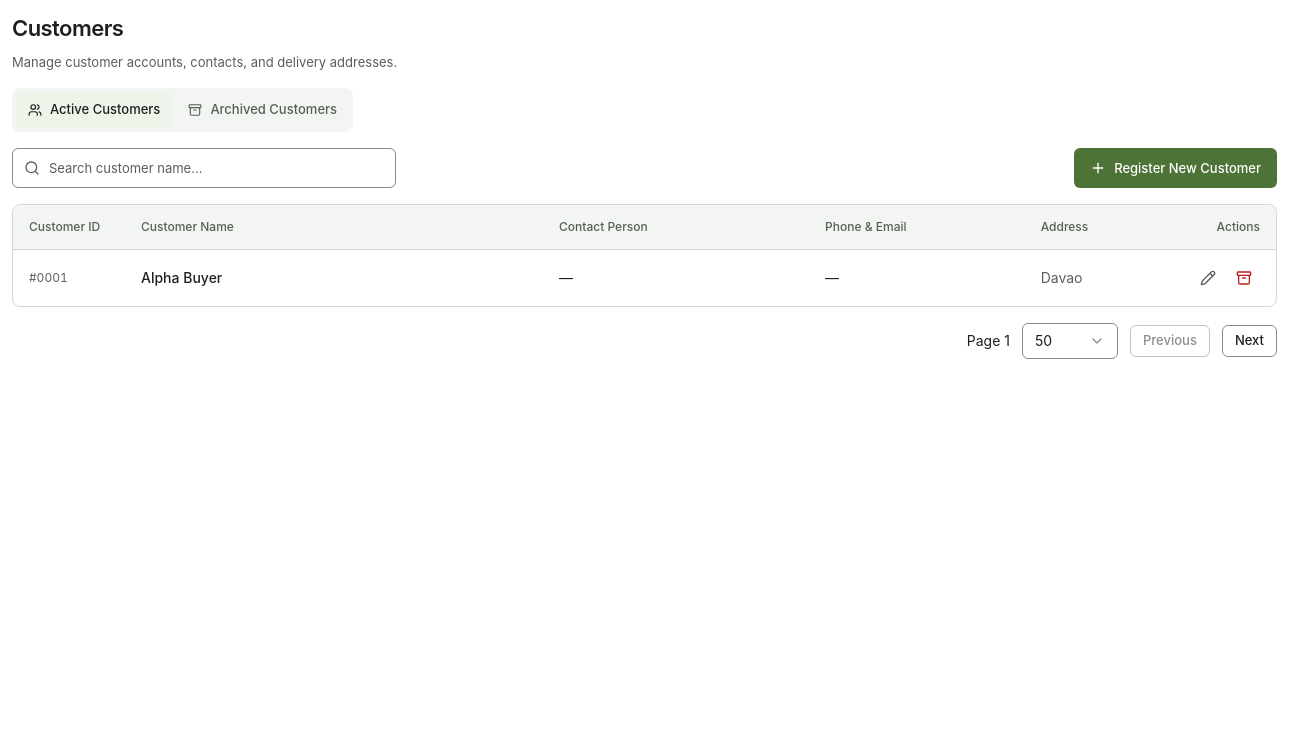
Test: resets page size without sending a previous cursor
The image size is (1292, 732).
Expected: the text "Alpha Buyer" is shown, [141,269,222,286]
What coordinates should you click on to do the following:
click the button "Next"
I would click on:
 (1249, 340)
Its box is [1222,324,1277,356].
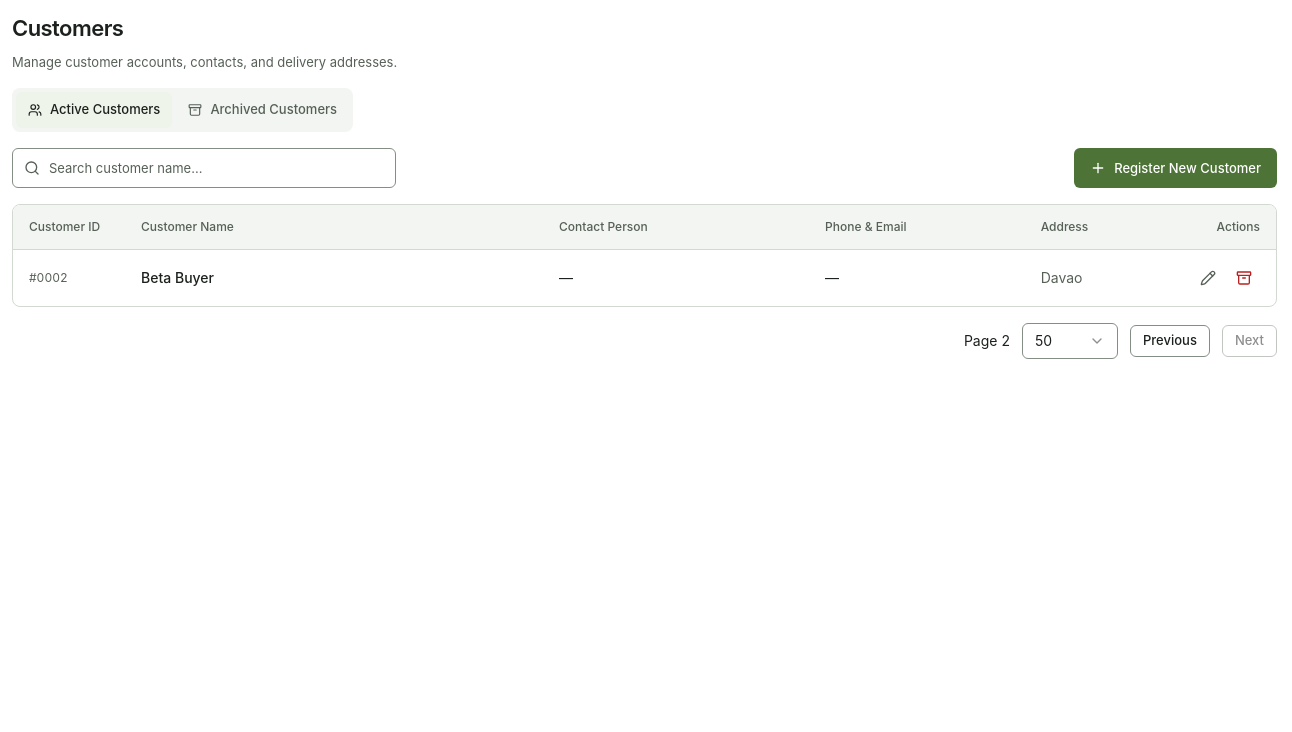
Now the text "Beta Buyer" is shown, box [141,269,214,286]
What coordinates should you click on to do the following:
click the dropdown named "Customers per page"
I would click on:
 (1070, 340)
Its box is [1022,322,1118,358].
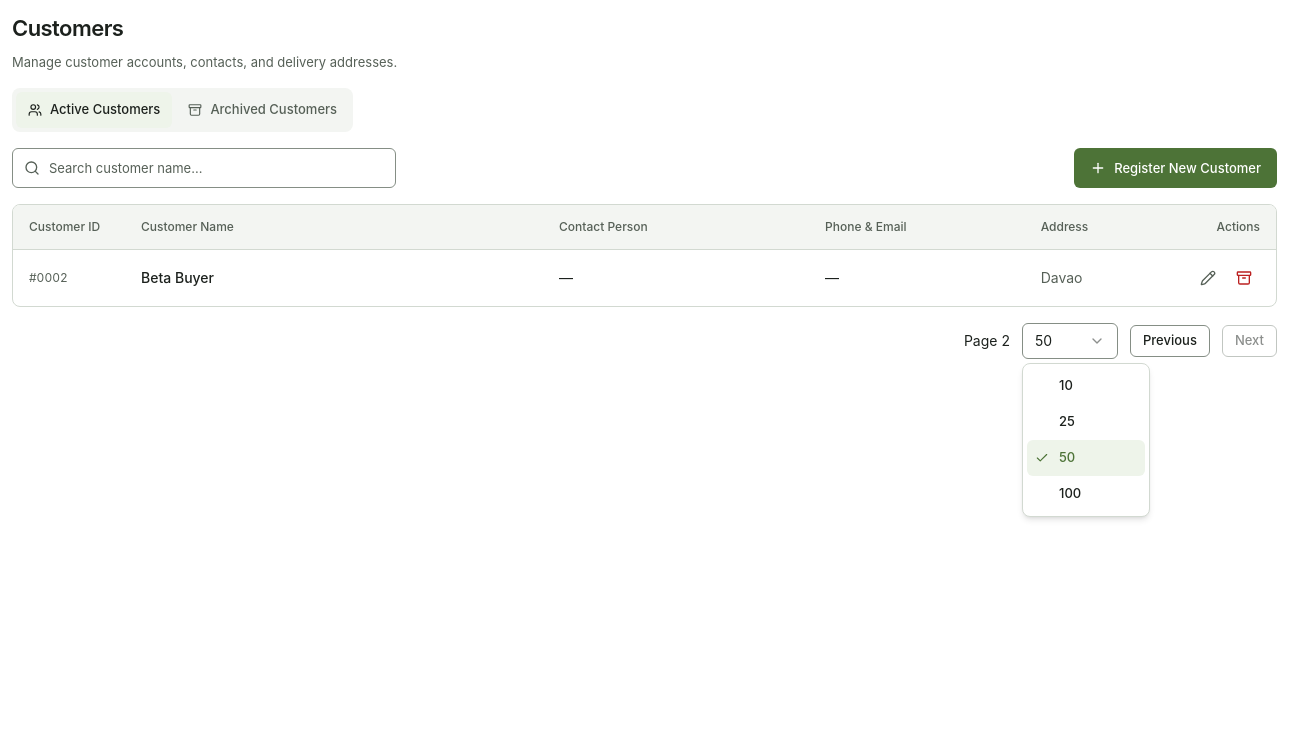
What coordinates should you click on to do the following:
click the option "25"
I would click on:
 (1067, 421)
Its box is [1059,413,1075,429].
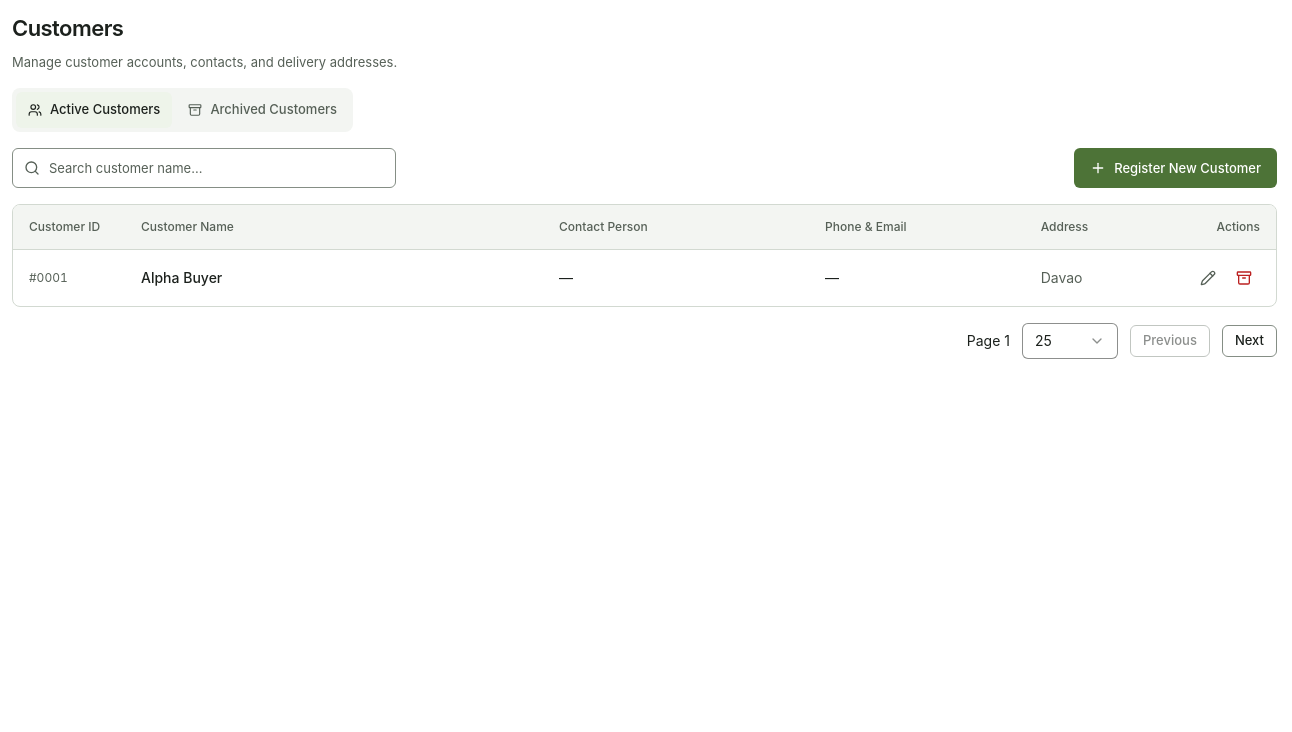
Now the text "Alpha Buyer" is shown, box [141,269,222,286]
Now the button "Previous" is disabled, box [1130,324,1210,356]
